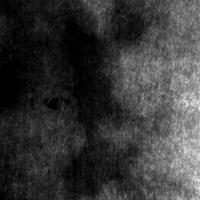patches: (0, 0, 107, 115), (62, 13, 109, 131), (142, 0, 200, 67), (0, 112, 38, 186), (1, 52, 34, 118), (112, 1, 154, 48)
